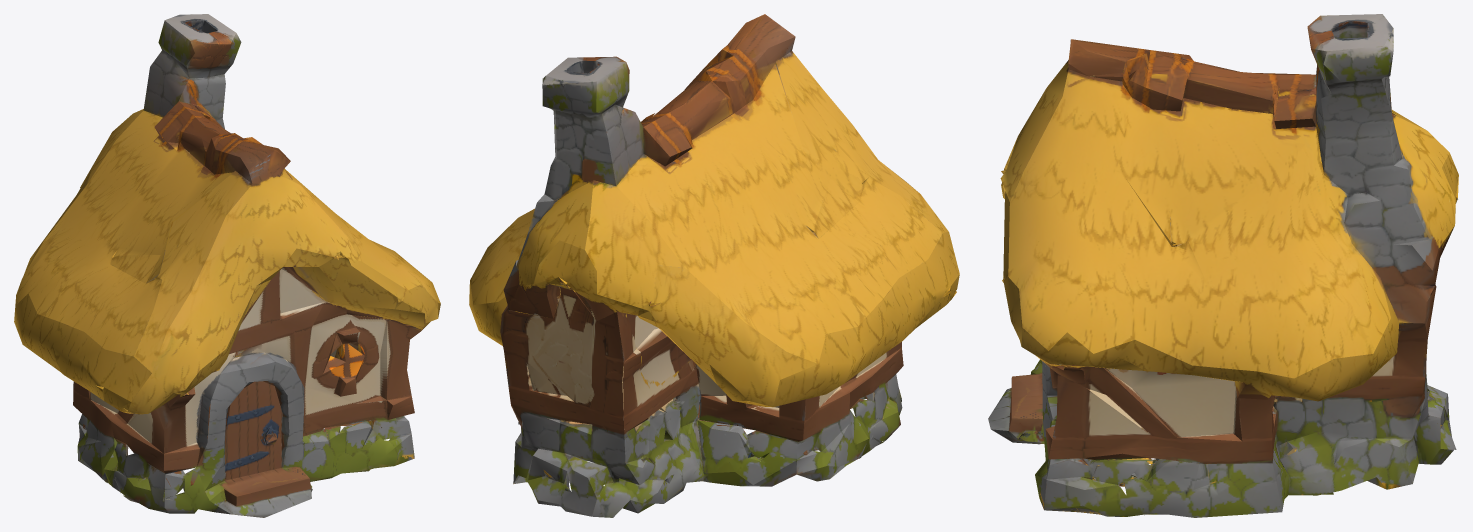
The model's file is house.glb.
3 views of the same model, side by side, from view 1: azimuth 30°, elevation 25°; view 2: azimuth 150°, elevation 25°; view 3: azimuth 270°, elevation 25° (orthographic). The views are drawn at different scales.
Visible parts, largest first — view 1: Body; view 2: Body; view 3: Body.
Part boxes in pixels (bbox=[...]): Body: bbox=[14, 14, 440, 517]; Body: bbox=[469, 14, 959, 517]; Body: bbox=[988, 14, 1458, 517].
Bounding box in the file's own units: 4.5 × 4.71 × 4.6.
Materials: 1 (1 with a texture image).
